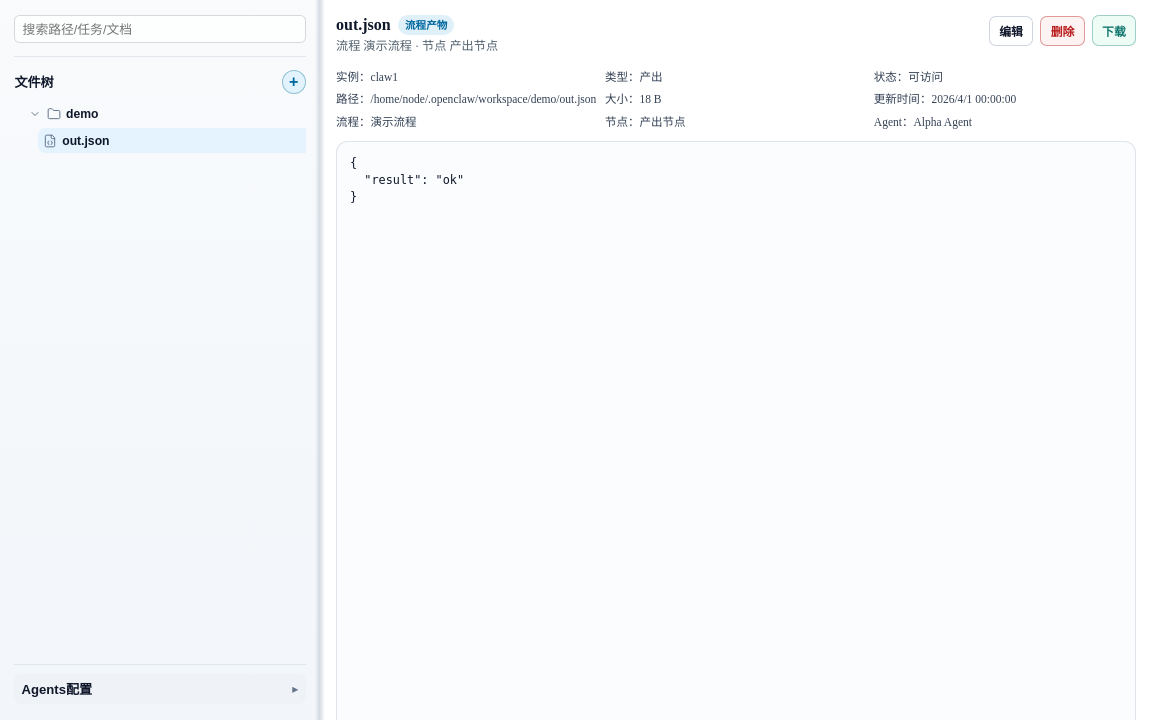
Scenario: InstanceFilesPage › shows Agents配置 section collapsed by default and toggles grouped docs visibility
Expected: the button with aria-label "查看任务文件 out.json" is shown, [38, 128, 306, 153]
Step 1. Click the button with aria-label "切换 Agents配置" → {"x": 57, "y": 690}, box [14, 674, 306, 704]
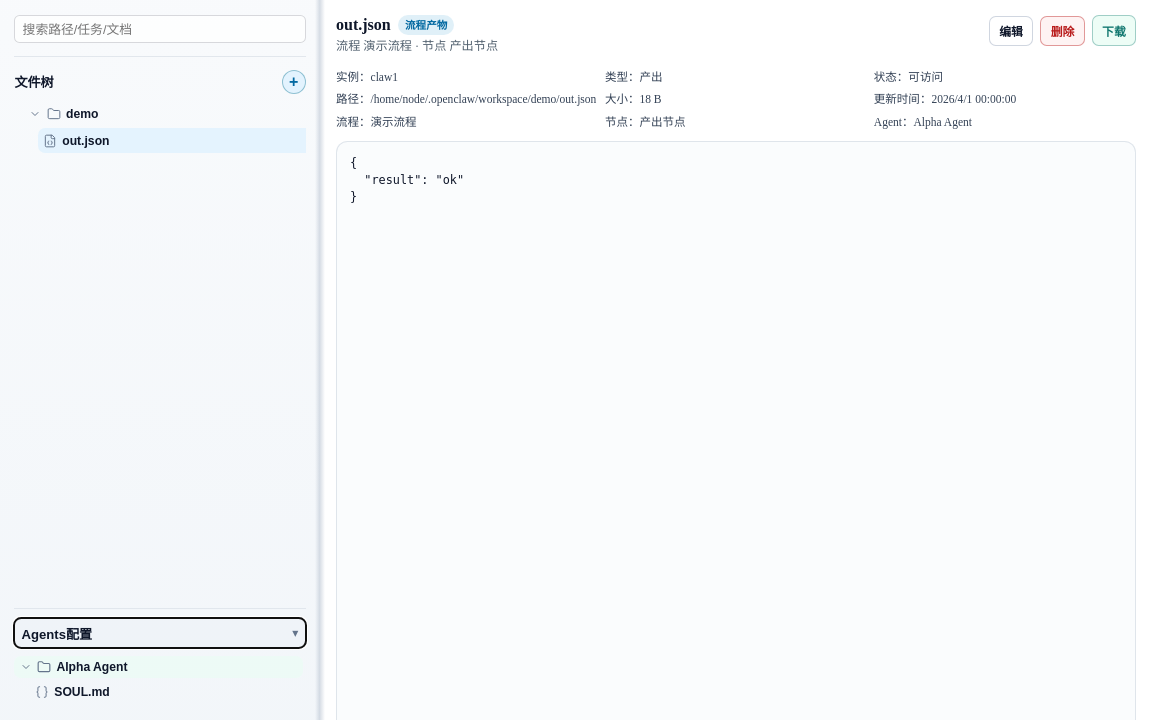
Expected: the button with aria-label "切换 Agents配置" is expanded
Expected: the text "Alpha Agent" is shown, [56, 660, 128, 674]
Expected: the button with aria-label "查看 Agent 文档 SOUL.md" is shown, [29, 680, 303, 704]
Step 2. Click the button with aria-label "切换 Agents配置" → {"x": 57, "y": 634}, box [14, 618, 306, 648]
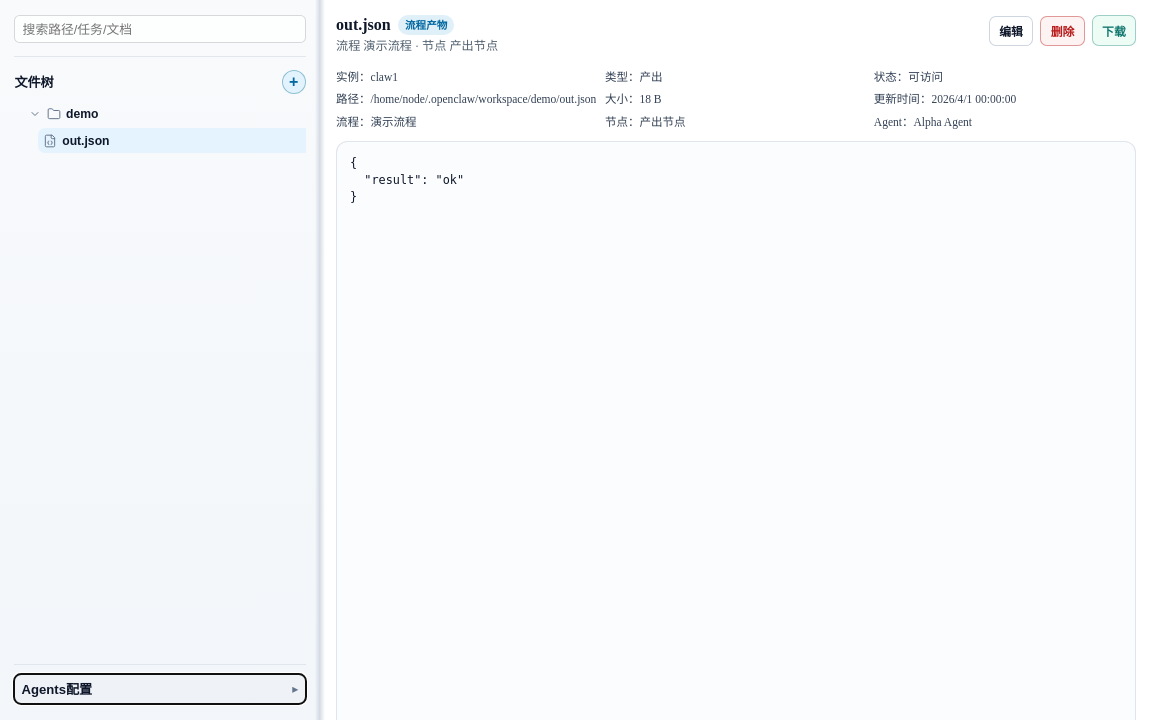
Expected: the button with aria-label "切换 Agents配置" is collapsed, [14, 674, 306, 704]
